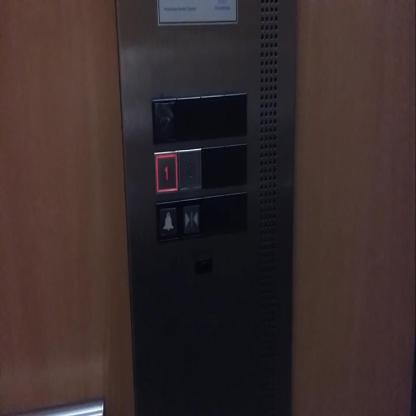1: (152, 148, 181, 195)
2: (177, 147, 204, 192)
alarm: (153, 197, 182, 244)
blur: (150, 94, 180, 142)
close: (178, 194, 204, 240)
empty: (174, 93, 204, 144), (223, 88, 249, 138), (200, 92, 226, 140), (200, 142, 227, 188), (201, 192, 227, 239), (224, 140, 248, 188), (224, 190, 248, 237)
